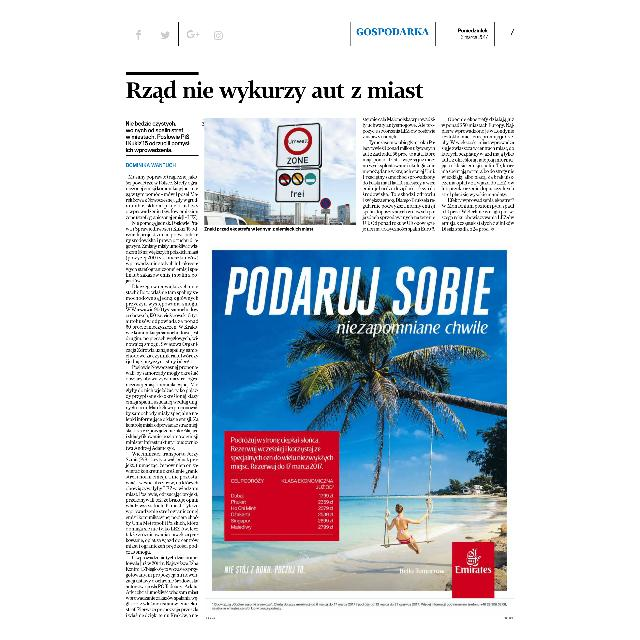article: (124, 70, 516, 624)
